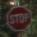Stop sign: (0, 0, 36, 36)
